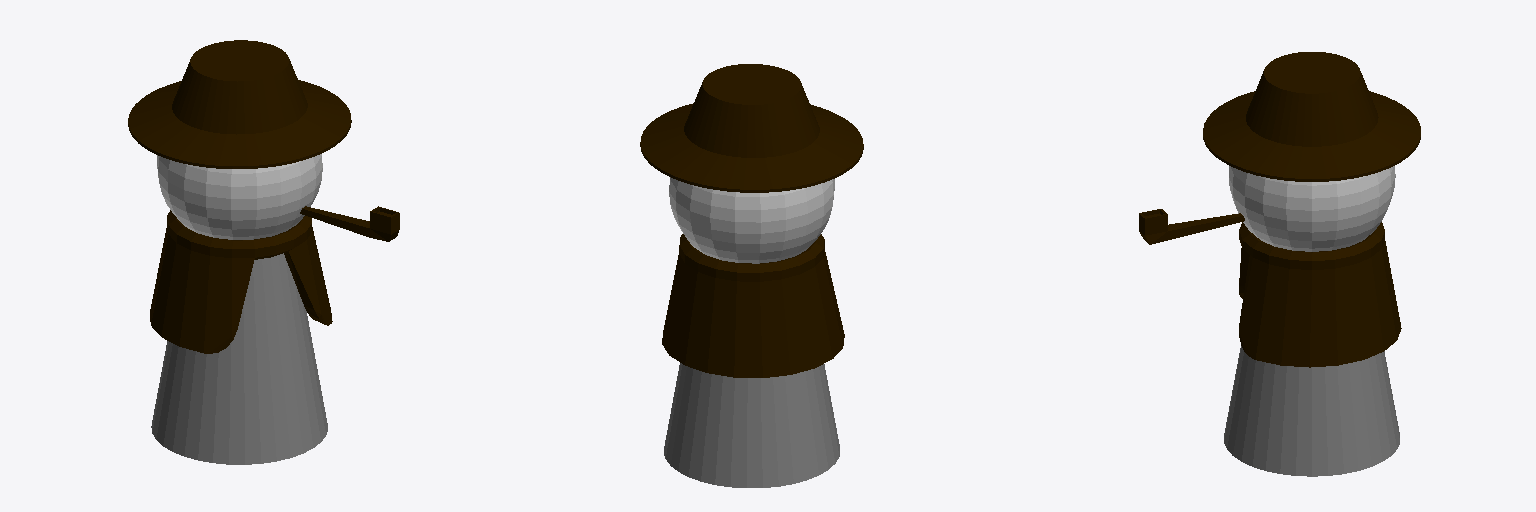
File: Player.obj
3 renders of one model, left to right at view 1: azimuth 30°, elevation 25°; view 2: azimuth 150°, elevation 25°; view 3: azimuth 270°, elevation 25°, orthographic.
Visible parts, largest first — view 1: pCylinder1, pCylinder2, pTorus1, pSphere1, pCube1; view 2: pCylinder2, pTorus1, pCylinder1, pSphere1; view 3: pCylinder2, pTorus1, pCylinder1, pSphere1, pCube1.
Boxes of the visible parts, x1=… form: pCylinder1: x1=151, y1=253, x2=327, y2=464; pCylinder2: x1=128, y1=40, x2=351, y2=168; pTorus1: x1=150, y1=210, x2=332, y2=353; pSphere1: x1=157, y1=154, x2=322, y2=239; pCube1: x1=300, y1=206, x2=399, y2=241; pCylinder2: x1=640, y1=64, x2=863, y2=192; pTorus1: x1=662, y1=234, x2=844, y2=377; pCylinder1: x1=664, y1=363, x2=839, y2=487; pSphere1: x1=669, y1=177, x2=834, y2=263; pCylinder2: x1=1203, y1=52, x2=1420, y2=181; pTorus1: x1=1239, y1=222, x2=1401, y2=367; pCylinder1: x1=1224, y1=346, x2=1399, y2=476; pSphere1: x1=1229, y1=166, x2=1395, y2=251; pCube1: x1=1139, y1=209, x2=1244, y2=244.
Bounding box in the file's own units: 1.74 × 3.12 × 2.18.